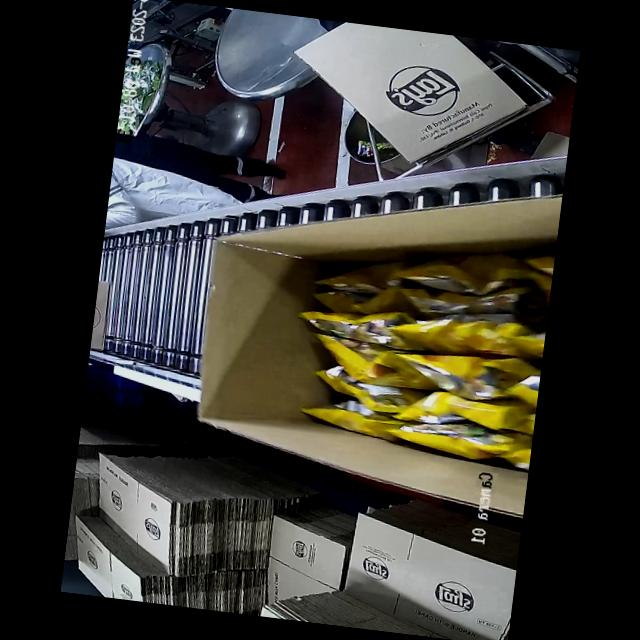salted: (290, 260, 550, 450)
